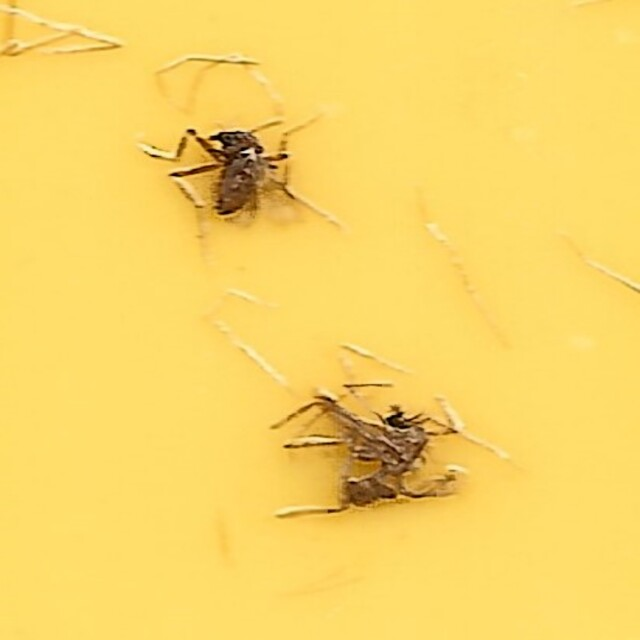Nematocera: (267, 390, 485, 521), (155, 119, 337, 234)
